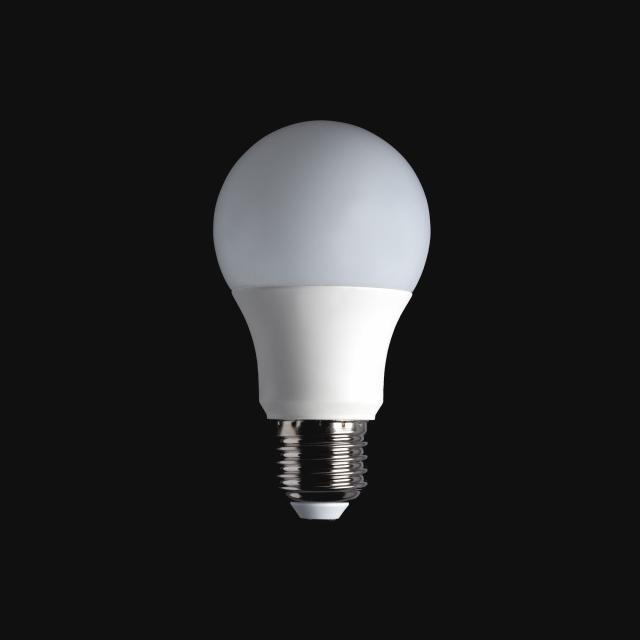light_bulb: (172, 91, 466, 533)
